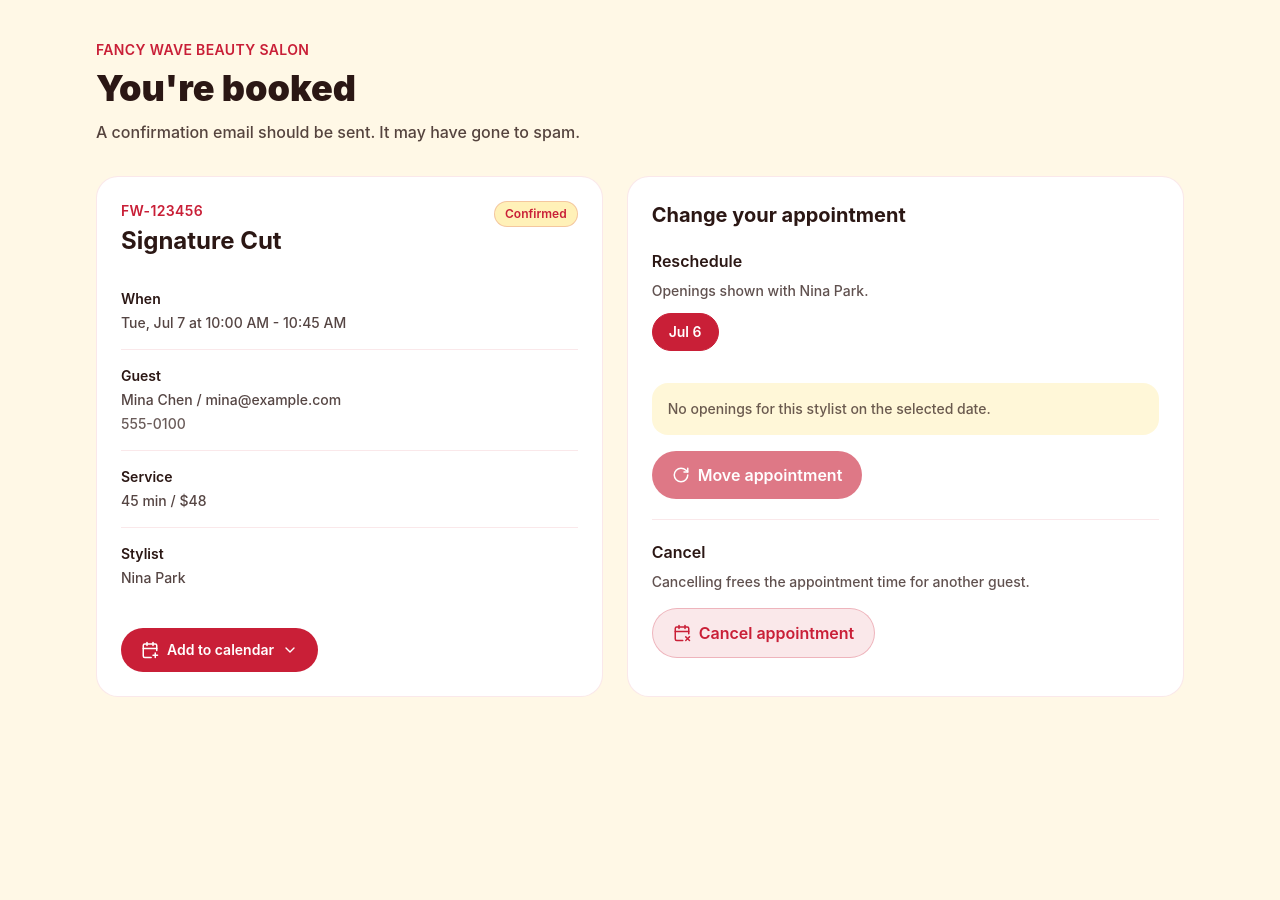
it: ManageBookingPage › shows confirmation after cancelling a managed booking
This screenshot has width=1280, height=900.
Click the button "Cancel appointment": (764, 633) [652, 608, 875, 658]
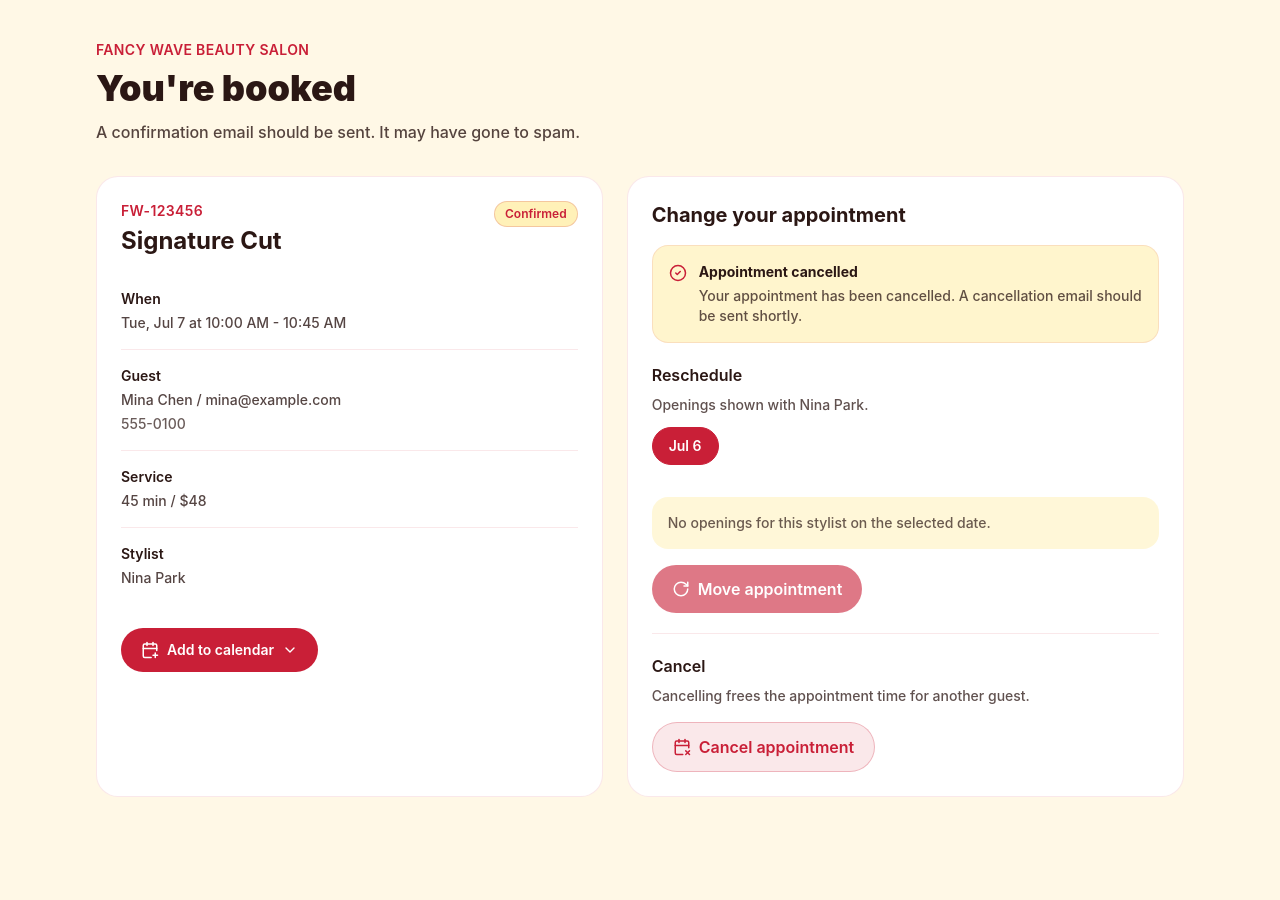
Check: the message shows "Appointment cancelled", box [699, 263, 858, 280]
